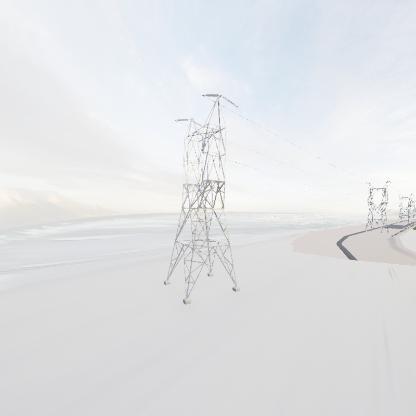tower: (159, 91, 245, 309), (365, 180, 391, 231)
